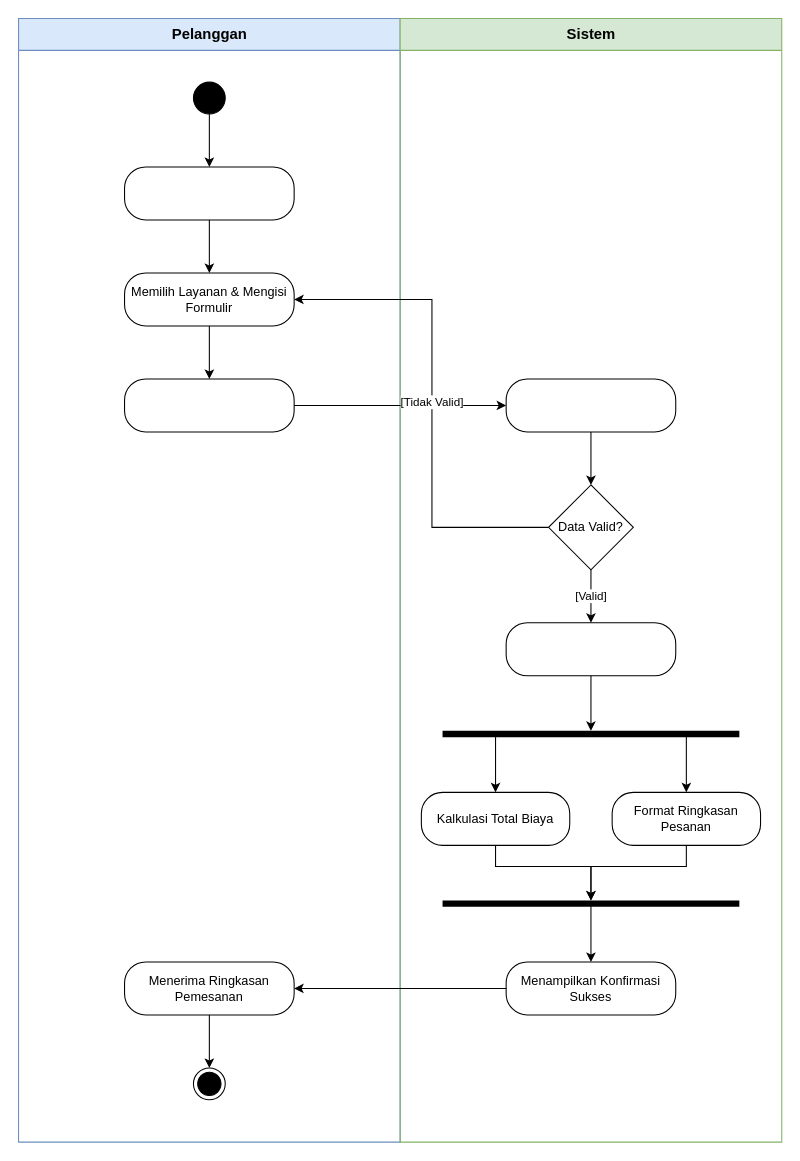
The diagram is 800 pixels wide and 1161 high, and some of its shapes have lost their labels. Each missing label, with the centre of its shape:
"Memproses Pemesanan" goes at pixel 590 649.
"Memvalidasi Input Data" goes at pixel 590 405.
"Mengakses Halaman Booking" goes at pixel 208 193.
"Mengirim Form Booking" goes at pixel 208 405.
